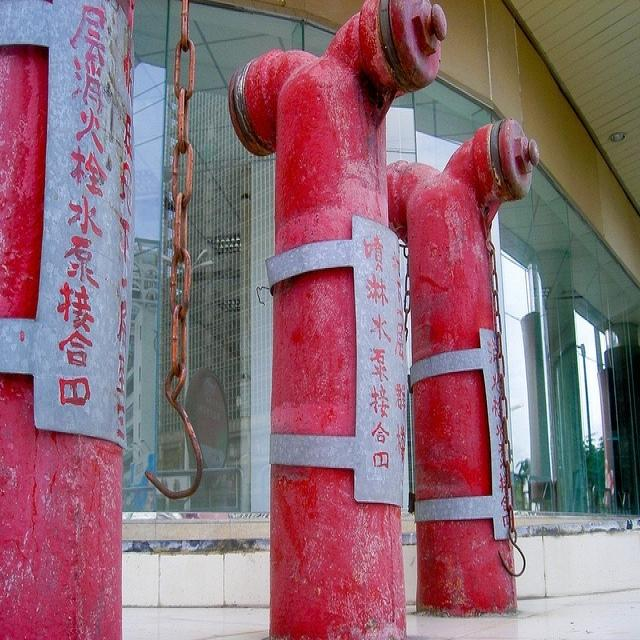fire_hydrant: (165, 0, 422, 640), (368, 111, 609, 616)
